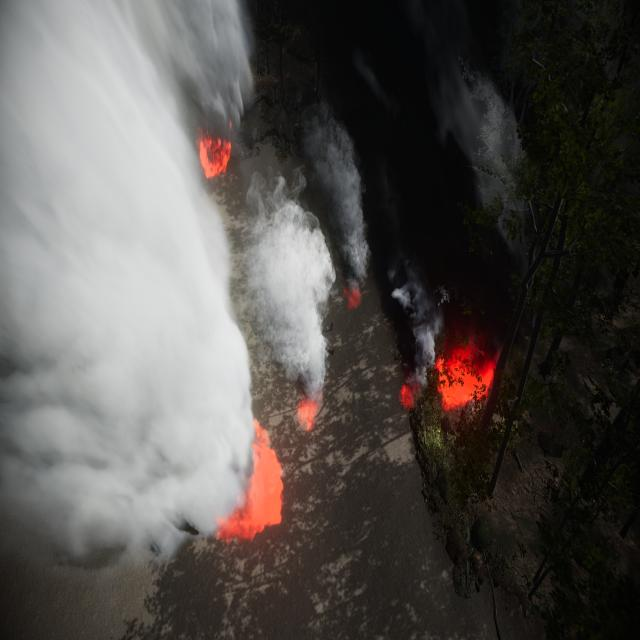Human: (301, 302, 339, 356)
